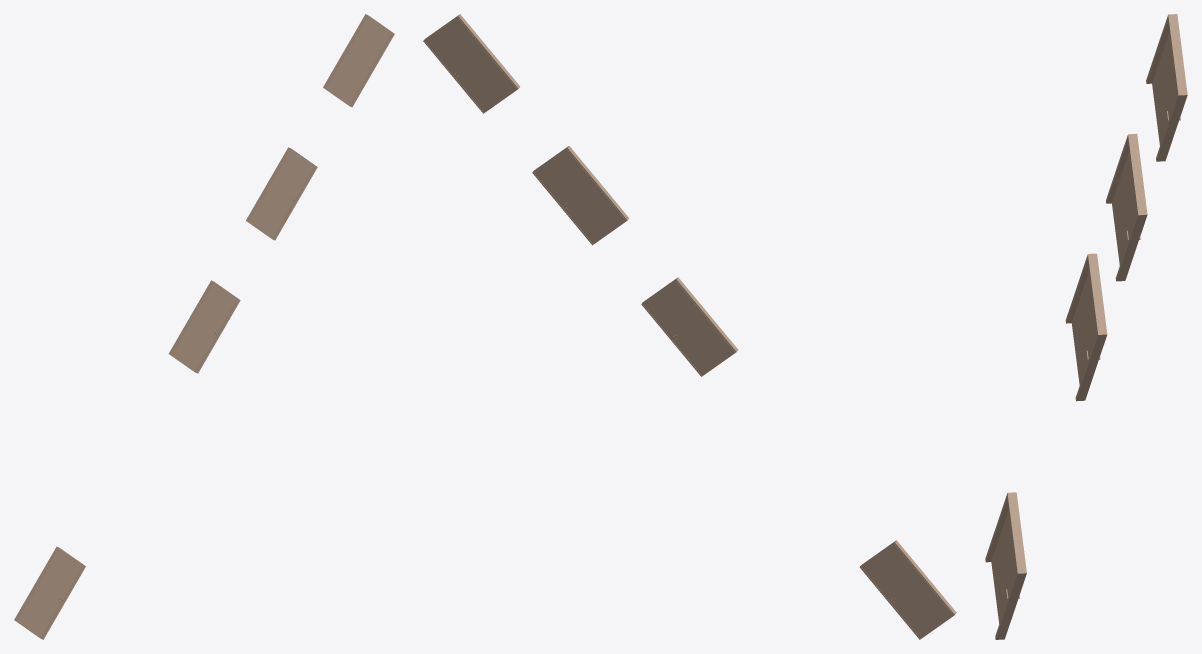
The picture shows the model from 3 angles, left to right: view 1: azimuth 30°, elevation 25°; view 2: azimuth 150°, elevation 25°; view 3: azimuth 270°, elevation 25°; orthographic projection. The views are drawn at different scales.
Visible parts, largest first — view 1: mesh; view 2: mesh; view 3: mesh.
Boxes of the visible parts, x1,y1,x2,y2 form: mesh: (14,14,394,639); mesh: (423,14,956,639); mesh: (985,14,1187,639).
Size of the model in its own units: 11.84 by 13.27 by 2.49.
